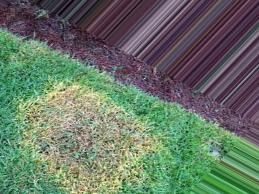patch: (44, 95, 125, 182)
